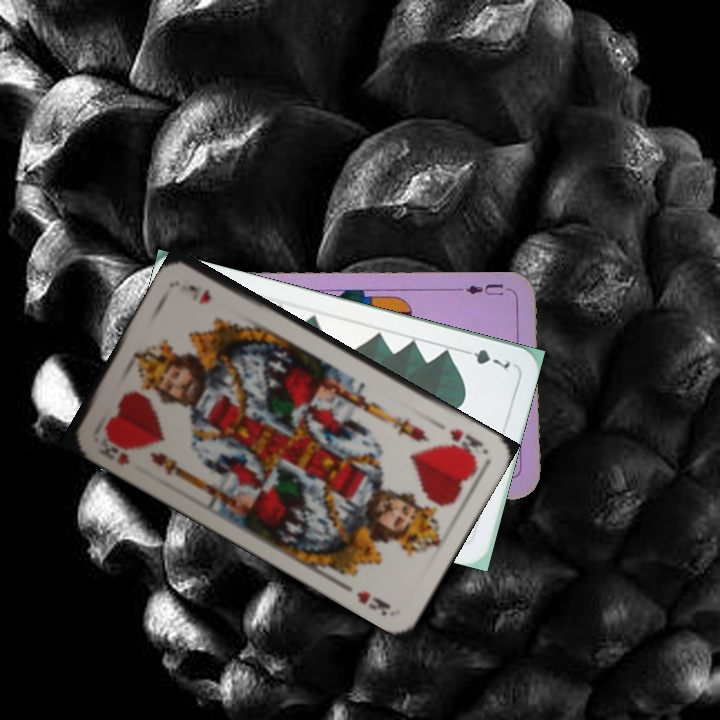EU: (456, 280, 506, 299)
G7: (457, 344, 514, 372)
HK: (94, 430, 139, 469), (446, 424, 487, 460)
